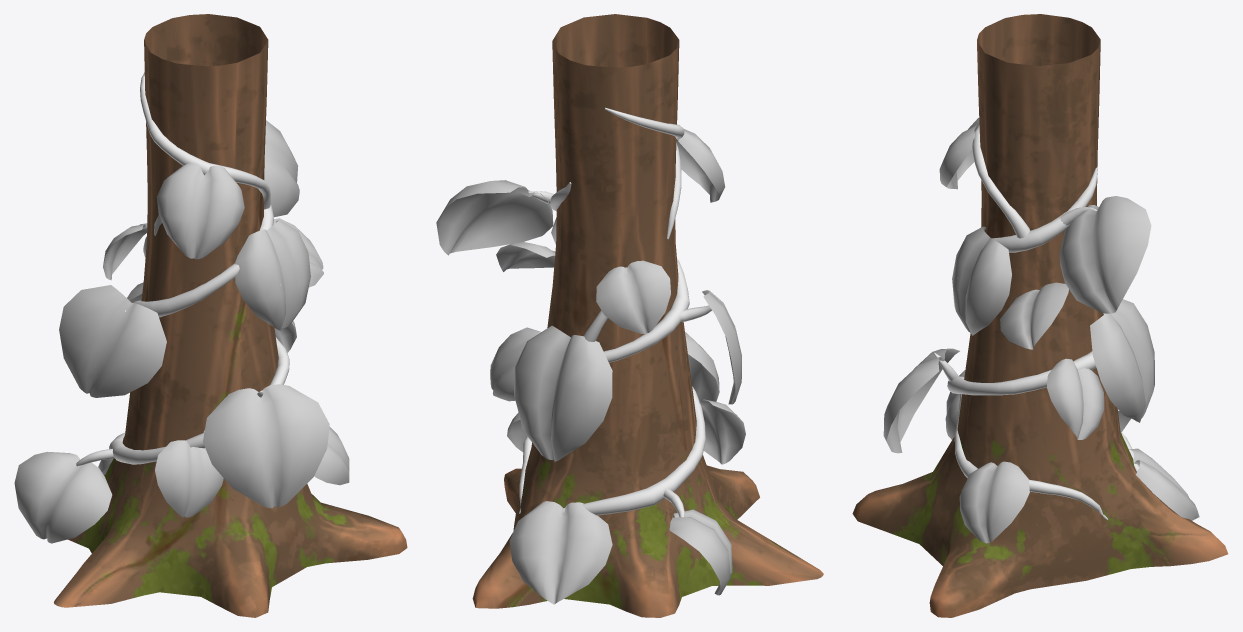
The model's file is Prop_TreeMonstera3.fbx.
3 views of the same model, side by side, from view 1: azimuth 30°, elevation 25°; view 2: azimuth 150°, elevation 25°; view 3: azimuth 270°, elevation 25° (orthographic). The views are drawn at different scales.
Visible parts, largest first — view 1: Bold_Tree03_L002, Treemonstera039, Treemonstera035, Treemonstera050, Treemonstera042, Treemonstera045, Treevine021, Treemonstera051, Treemonstera049, Treemonstera047, Treemonstera037, Treemonstera041; view 2: Bold_Tree03_L002, Treemonstera036, Treemonstera052, Treemonstera049, Treevine021, Treemonstera037, Treemonstera050, Treemonstera051, Treemonstera042, Treemonstera034, Treemonstera039, Treemonstera035 (+2 smaller); view 3: Bold_Tree03_L002, Treemonstera049, Treemonstera036, Treemonstera045, Treevine021, Treemonstera047, Treemonstera034, Treemonstera039, Treemonstera041, Treemonstera052, Treemonstera042, Prop_TreeMonstera3 (+1 smaller).
Boxes of the visible parts, x1,y1,x2,y2 form: Bold_Tree03_L002: (54, 14, 407, 617); Treemonstera039: (203, 384, 329, 508); Treemonstera035: (59, 285, 166, 397); Treemonstera050: (14, 451, 112, 543); Treemonstera042: (156, 163, 244, 259); Treemonstera045: (235, 219, 310, 330); Treevine021: (109, 72, 289, 464); Treemonstera051: (155, 440, 223, 517); Treemonstera049: (264, 120, 299, 217); Treemonstera047: (314, 427, 349, 485); Treemonstera037: (103, 223, 147, 280); Treemonstera041: (273, 218, 323, 287); Bold_Tree03_L002: (472, 14, 823, 617); Treemonstera036: (514, 325, 612, 461); Treemonstera052: (509, 501, 612, 604); Treemonstera049: (436, 180, 553, 255); Treevine021: (550, 107, 705, 515); Treemonstera037: (596, 260, 670, 333); Treemonstera050: (669, 509, 732, 595); Treemonstera051: (699, 399, 745, 464); Treemonstera042: (676, 124, 725, 202); Treemonstera034: (490, 327, 540, 401); Treemonstera039: (685, 332, 719, 401); Treemonstera035: (702, 290, 741, 404); Bold_Tree03_L002: (852, 14, 1228, 617); Treemonstera049: (1059, 196, 1151, 313); Treemonstera036: (1090, 299, 1154, 422); Treemonstera045: (952, 226, 1011, 335); Treevine021: (947, 124, 1138, 471); Treemonstera047: (959, 461, 1029, 543); Treemonstera034: (1046, 358, 1104, 439); Treemonstera039: (883, 348, 959, 453); Treemonstera041: (1000, 282, 1068, 349); Treemonstera052: (1129, 448, 1199, 520); Treemonstera042: (939, 118, 979, 189); Prop_TreeMonstera3: (954, 394, 1107, 519).
Size of the model in its own units: 3486 by 5141 by 3472.
